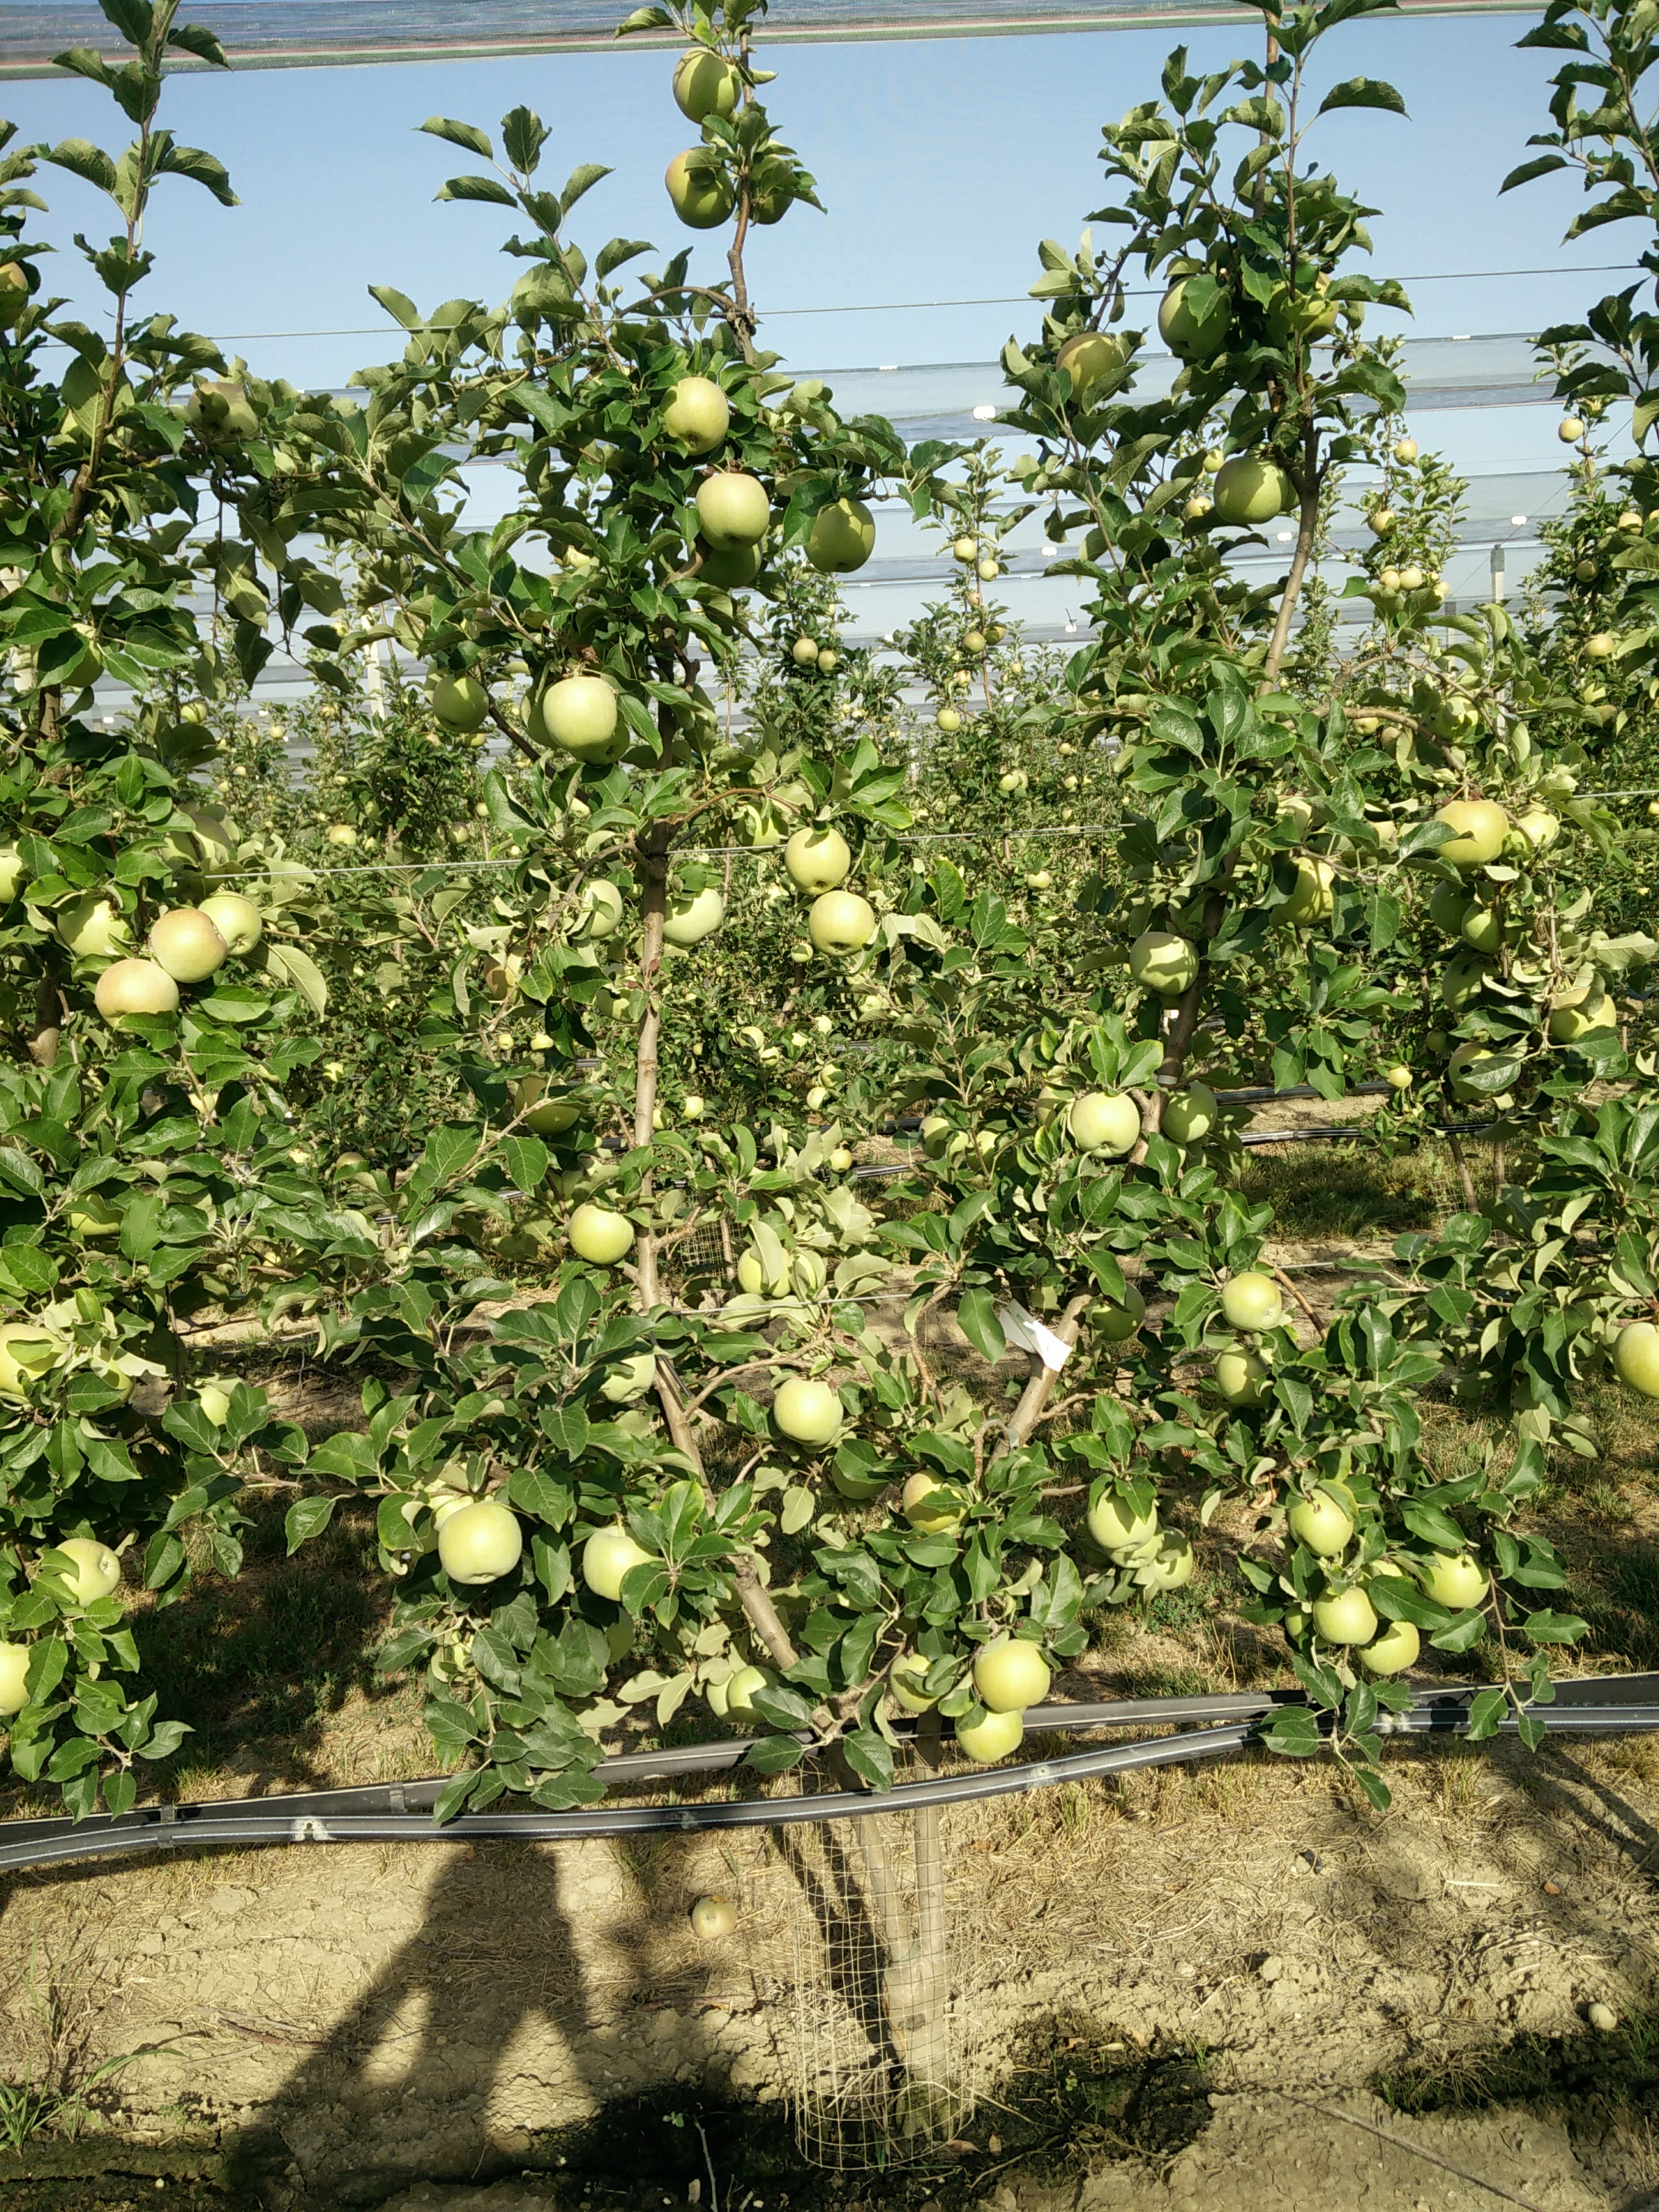apple: (432, 1496, 527, 1584), (577, 1517, 667, 1604), (91, 956, 179, 1042), (972, 1629, 1058, 1710), (800, 493, 879, 578), (538, 674, 624, 752), (44, 1535, 123, 1616), (1210, 450, 1292, 528), (1155, 276, 1228, 362), (1065, 1083, 1145, 1160), (653, 371, 727, 454), (1306, 1573, 1383, 1651), (1417, 1535, 1492, 1615), (778, 823, 861, 894), (1427, 794, 1511, 866), (691, 471, 767, 550), (662, 142, 732, 225), (949, 1694, 1026, 1769), (653, 875, 731, 947), (803, 884, 881, 956), (149, 910, 224, 983), (670, 49, 744, 120), (770, 1374, 845, 1446), (1283, 1479, 1356, 1550), (1087, 1481, 1156, 1553), (566, 1198, 638, 1265), (1125, 926, 1201, 990), (1059, 334, 1124, 405), (199, 888, 263, 957), (1219, 1266, 1286, 1331), (1213, 1341, 1280, 1401), (723, 1668, 784, 1726), (429, 677, 490, 730)
